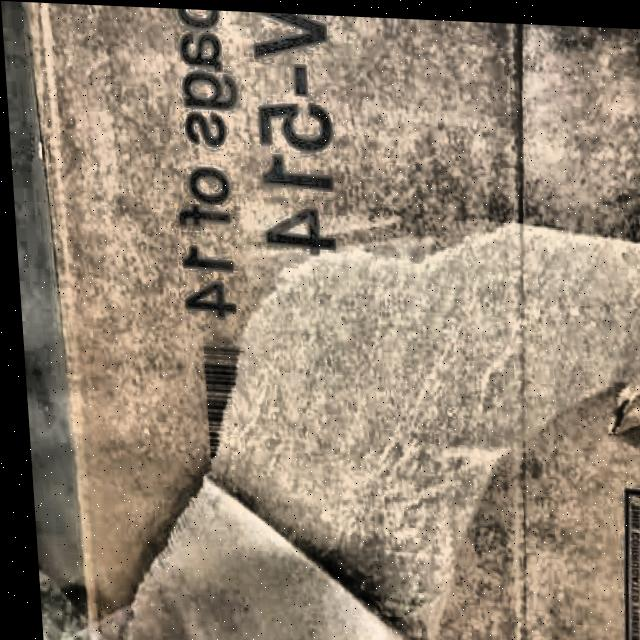cardboard: (20, 1, 640, 640)
